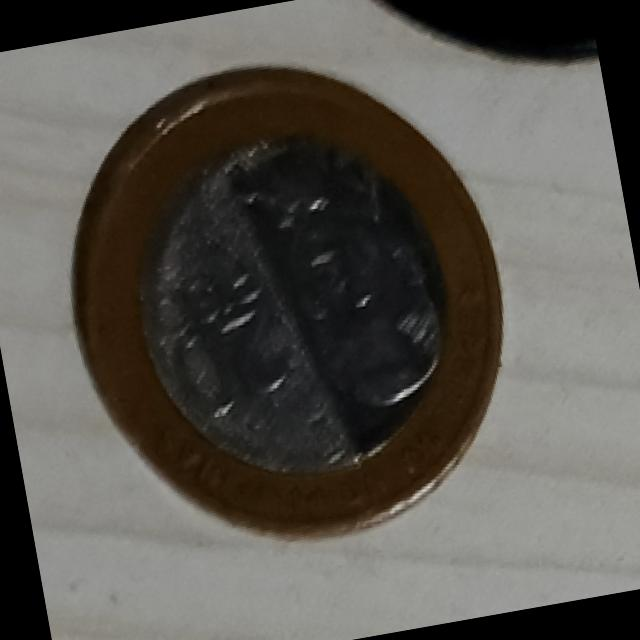20_peso: (72, 72, 498, 532)
